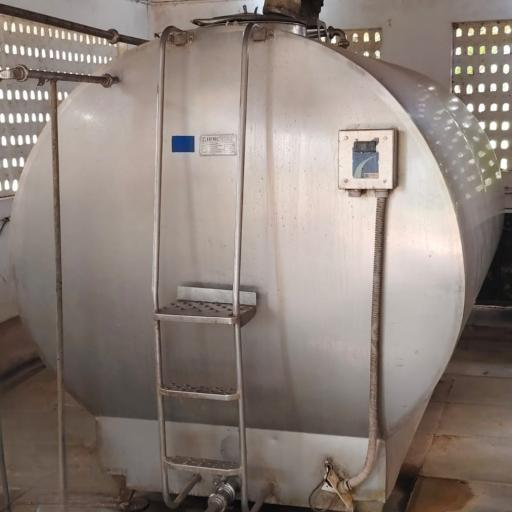silo: (5, 10, 506, 508)
